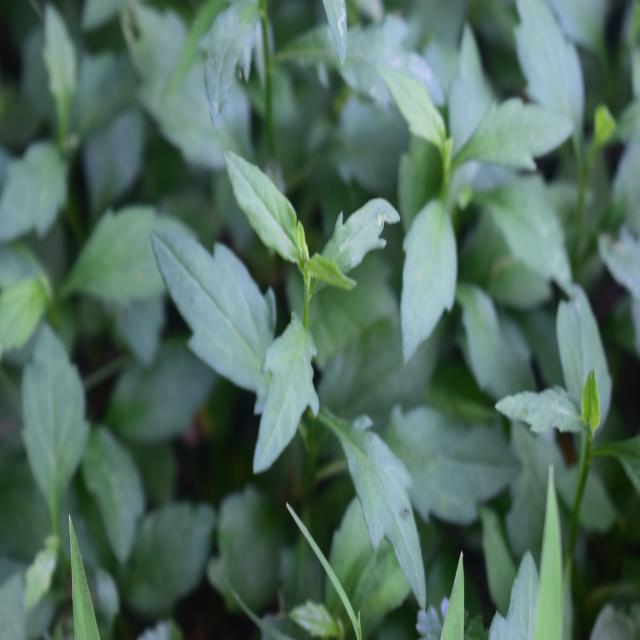Indian aster: (144, 160, 427, 551)
